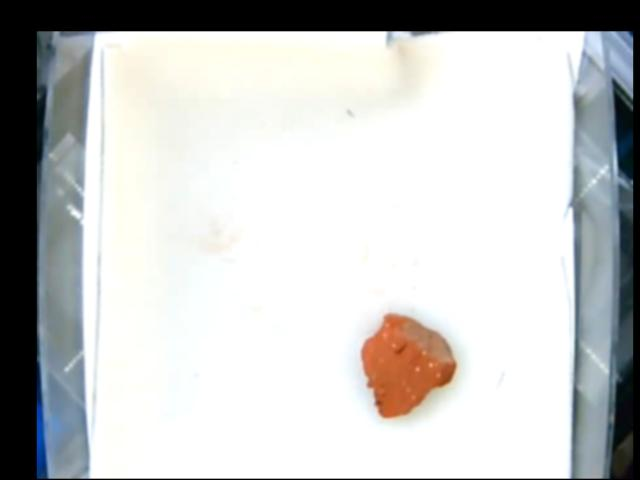Brisk: (364, 312, 455, 415)
